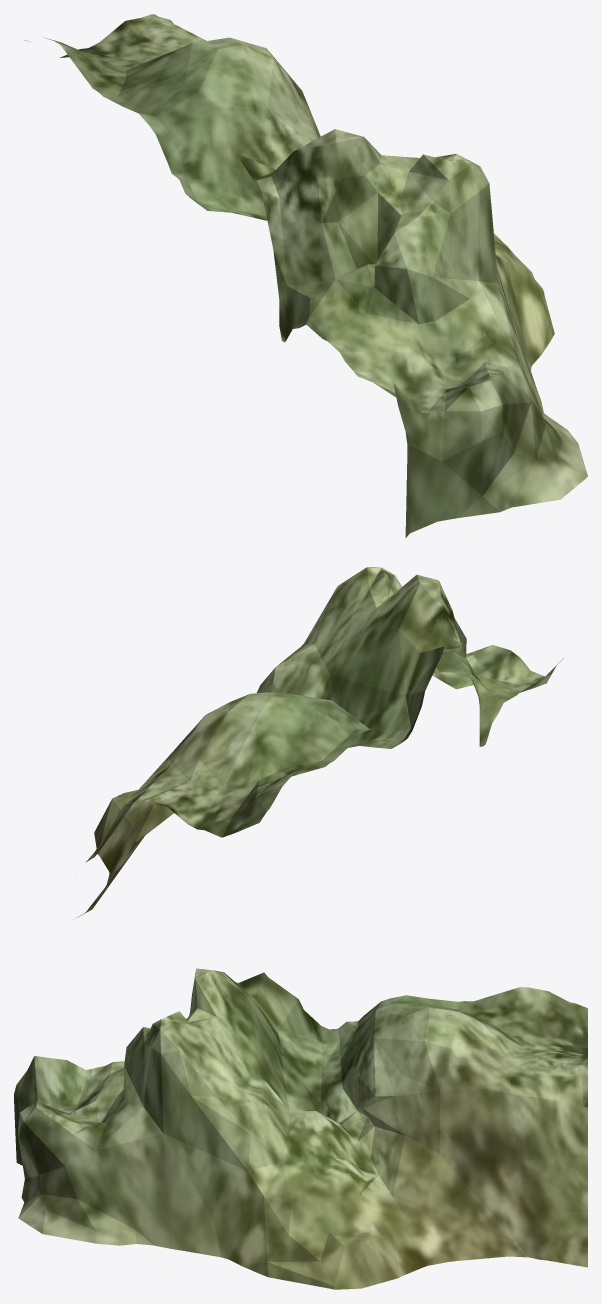
3 renders of one model, top to bottom at view 1: azimuth 30°, elevation 25°; view 2: azimuth 150°, elevation 25°; view 3: azimuth 270°, elevation 25°, orthographic. The views are drawn at different scales.
Size of the model in its own units: 1.3 by 1.03 by 2.49.
Materials: 1 (1 with a texture image).
